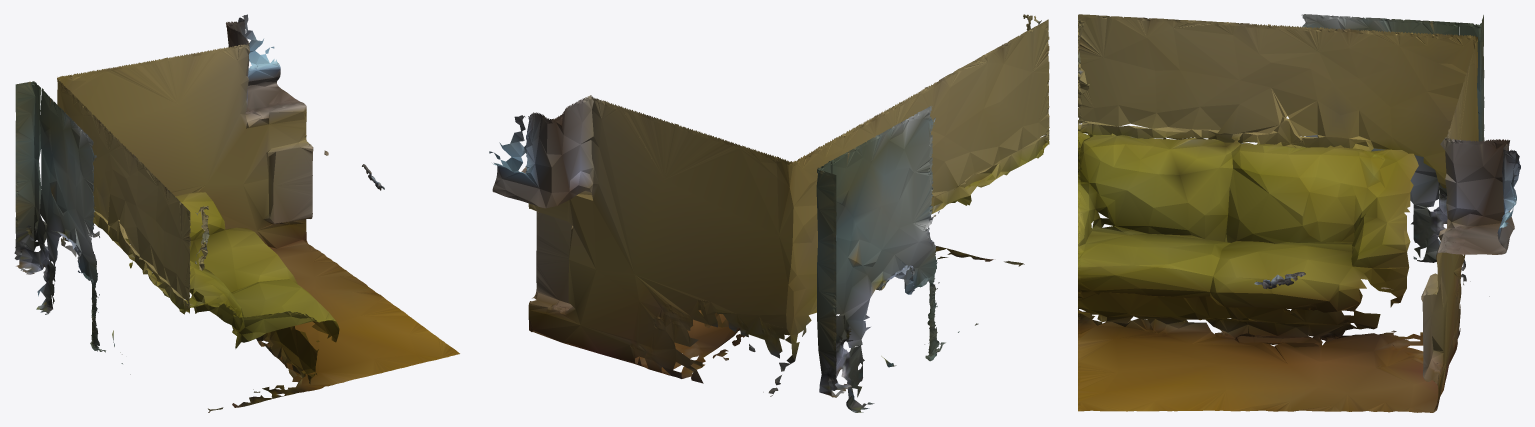
File: coarse.glb
3 renders of one model, left to right at view 1: azimuth 30°, elevation 25°; view 2: azimuth 150°, elevation 25°; view 3: azimuth 270°, elevation 25°, orthographic. The views are drawn at different scales.
Size of the model in its own units: 1.96 by 1.49 by 2.37.
